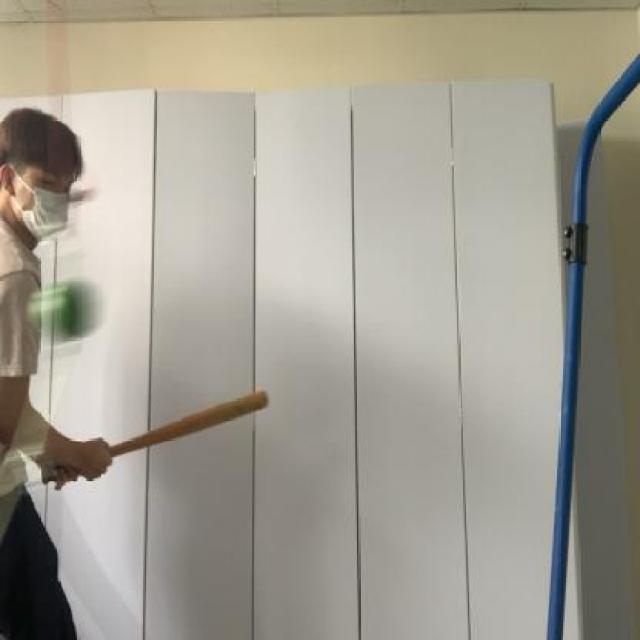baseball: (31, 265, 100, 353)
